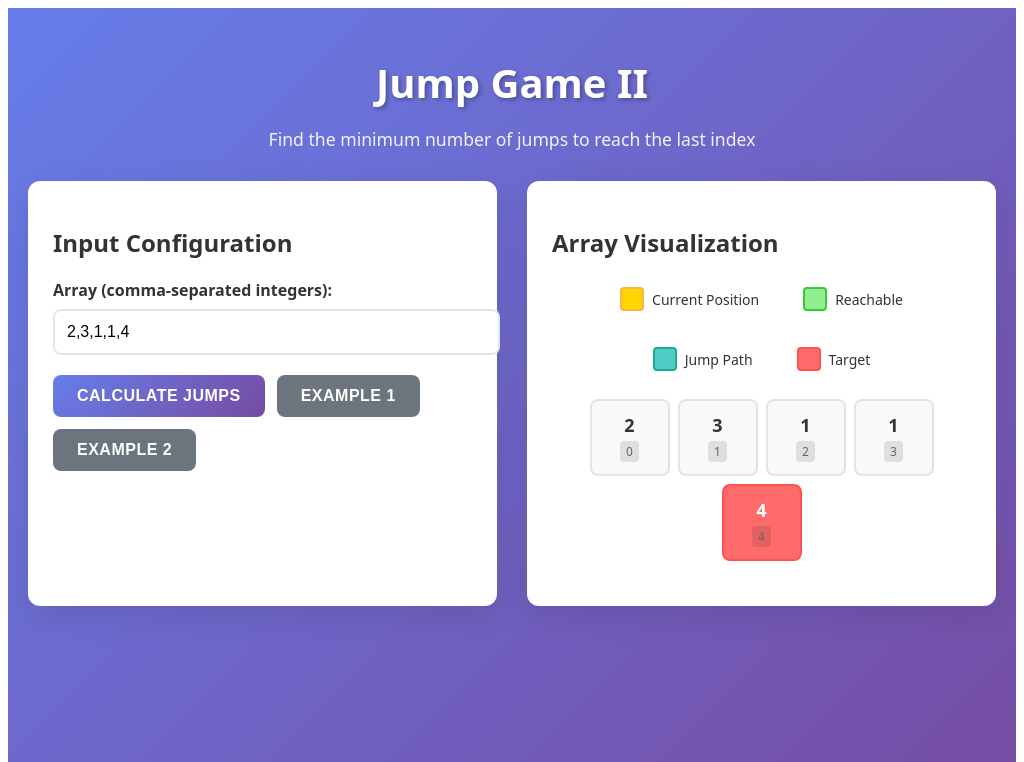
it: JumpGame Component › handles single element array
Replace the text in the field with test id "array-input" with "0" at (276, 332), box [53, 309, 500, 355]
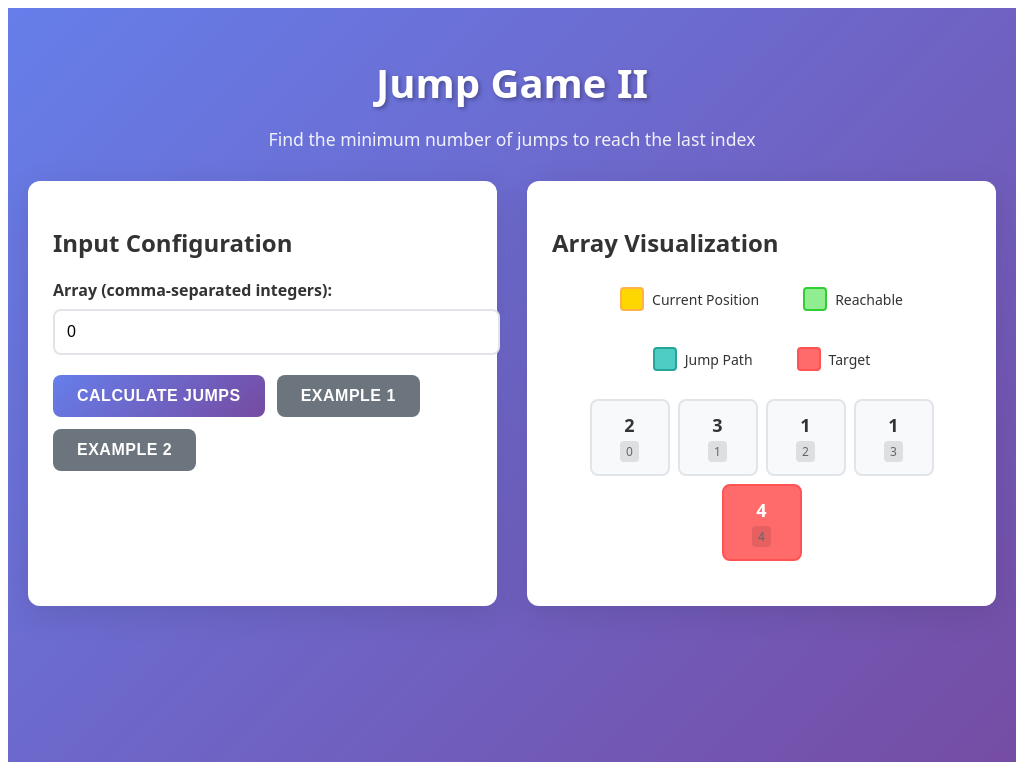
Click the button with test id "calculate-btn" at (159, 396), box [53, 375, 265, 417]
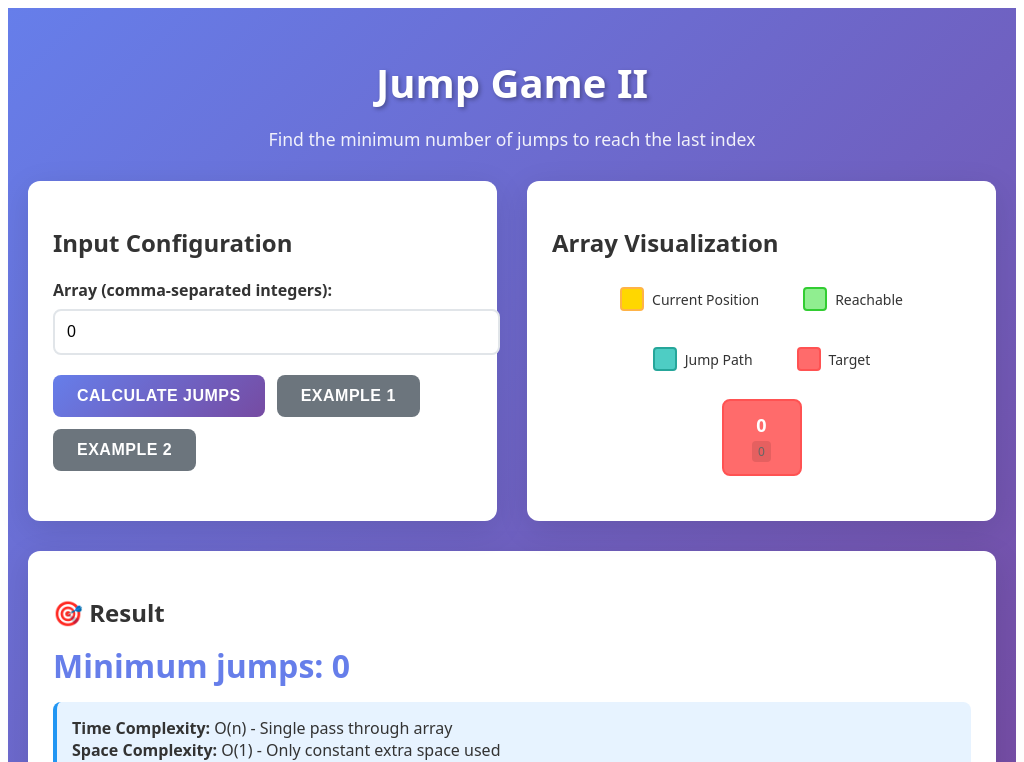
Now the text with test id "result-value" reads "Minimum jumps: 0", box [53, 644, 350, 687]
